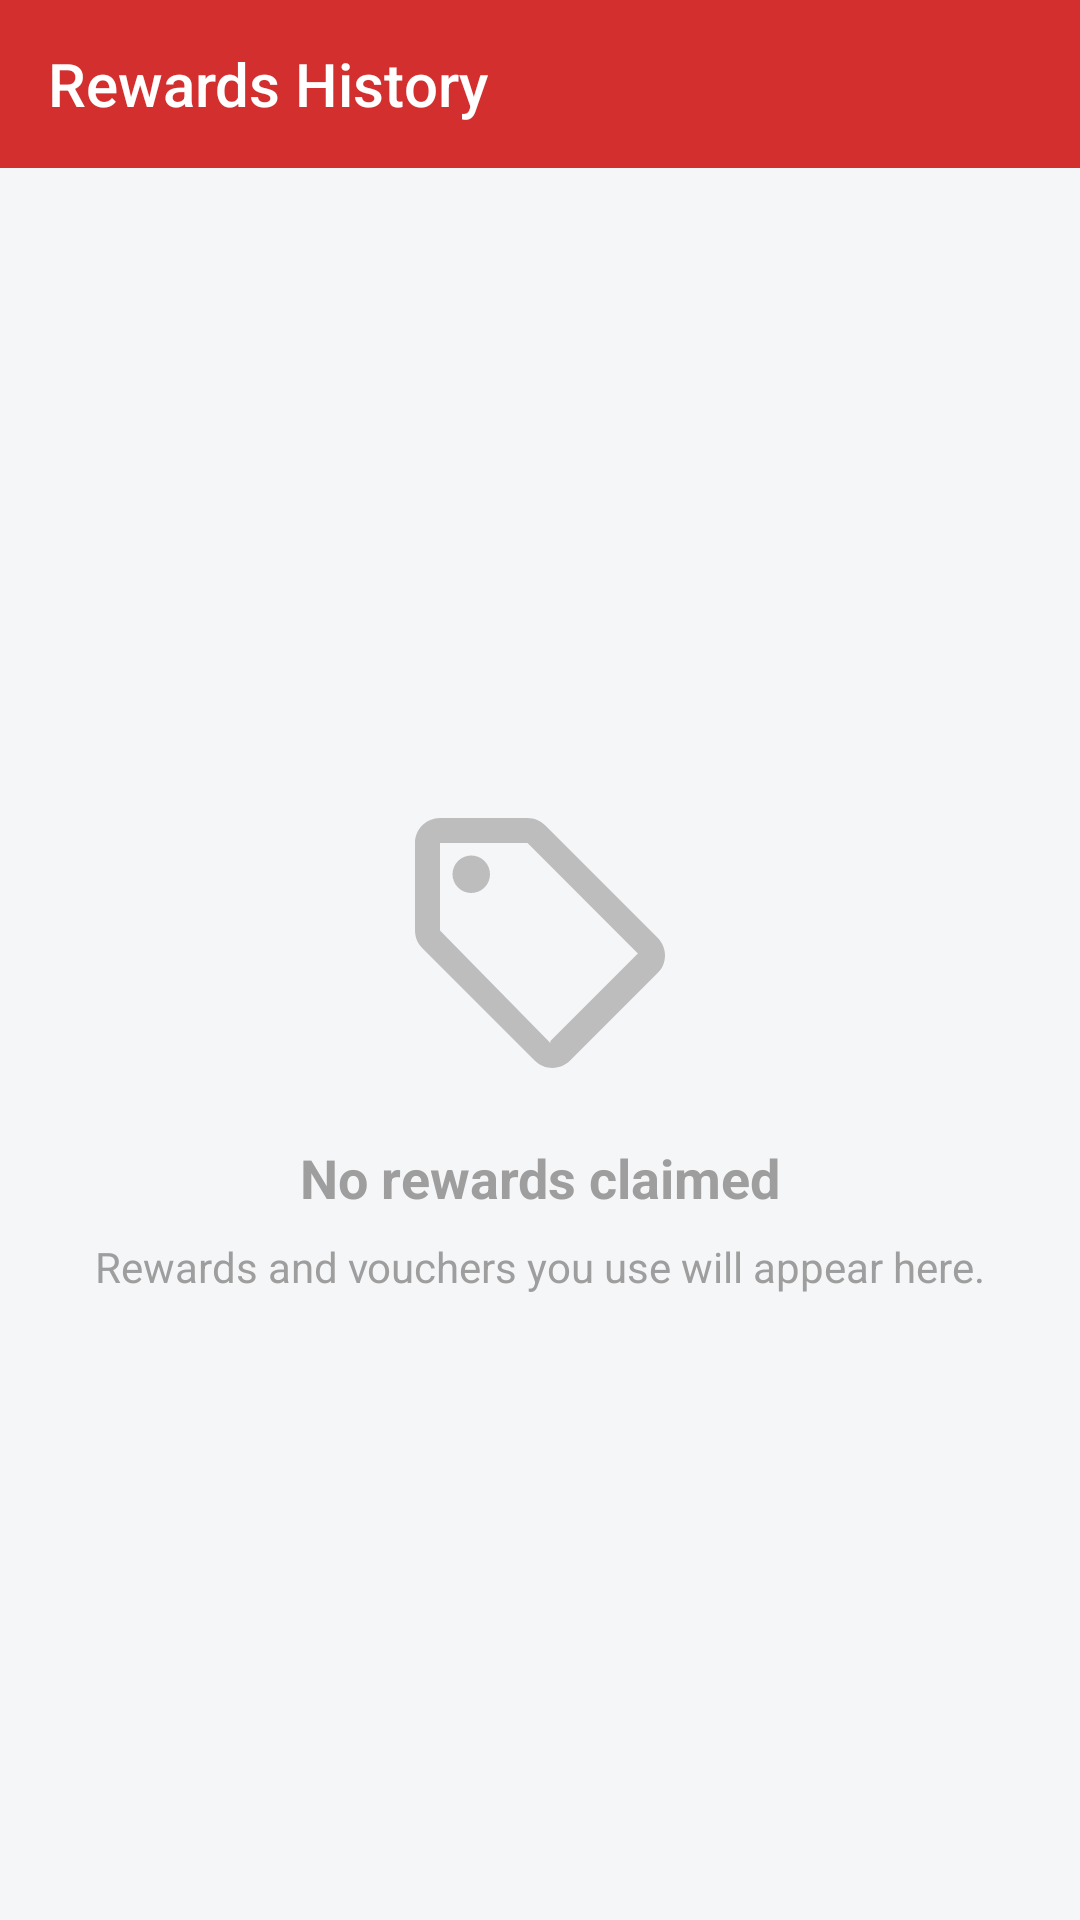

Named icons in this screenshot (1080*1920) and their centers, point (x, y):
discount: point (540, 943)
